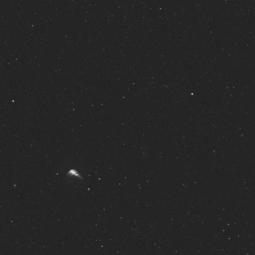debris: (62, 165, 89, 188)
